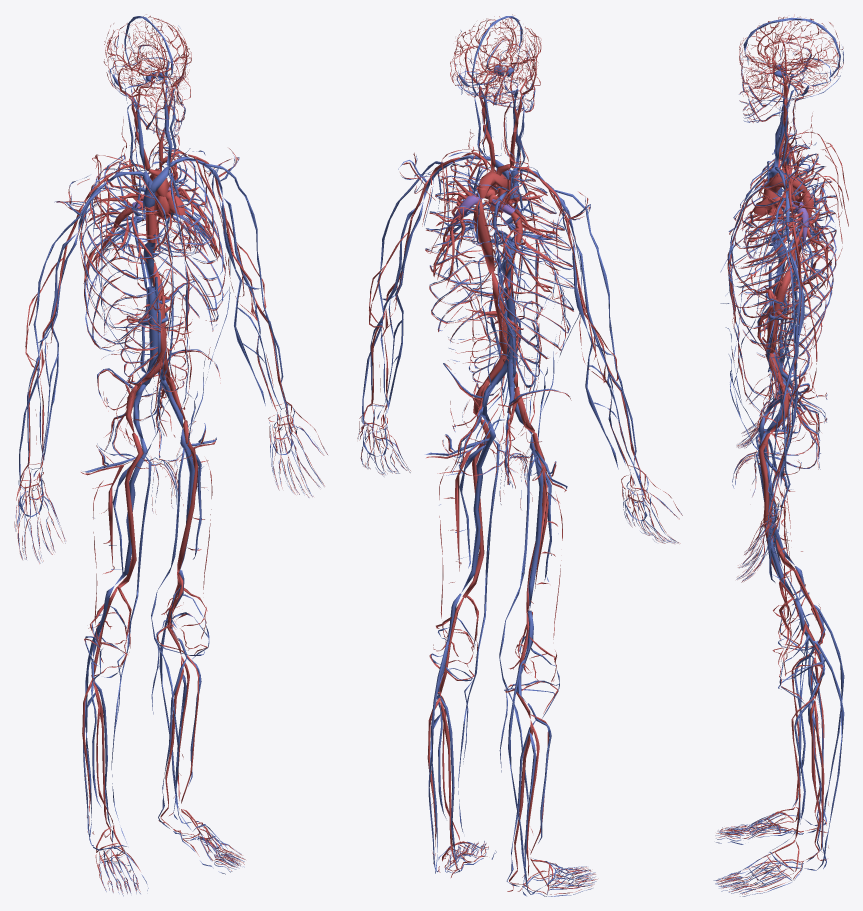
The model's file is vasos.glb.
The picture shows the model from 3 angles, left to right: view 1: azimuth 30°, elevation 25°; view 2: azimuth 150°, elevation 25°; view 3: azimuth 270°, elevation 25°; orthographic projection. The views are drawn at different scales.
Parts seen in each view (by area): view 1: vasos; view 2: vasos; view 3: vasos.
Boxes of the visible parts, box(x1,y1,x2,y2) form: vasos: box(14, 14, 327, 896); vasos: box(357, 14, 682, 896); vasos: box(713, 14, 848, 896).
Bounding box in the file's own units: 0.6636 × 1.7 × 0.2486.
